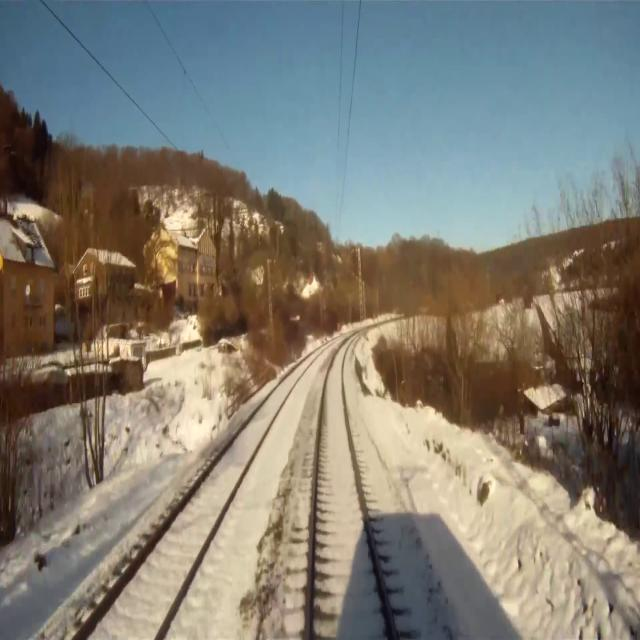rail-track: (84, 354, 314, 639), (309, 338, 393, 639)
